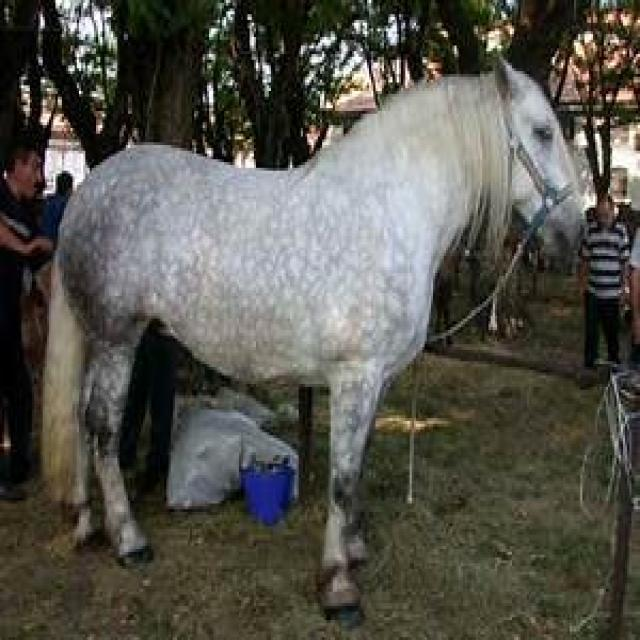horse: (41, 63, 585, 631)
